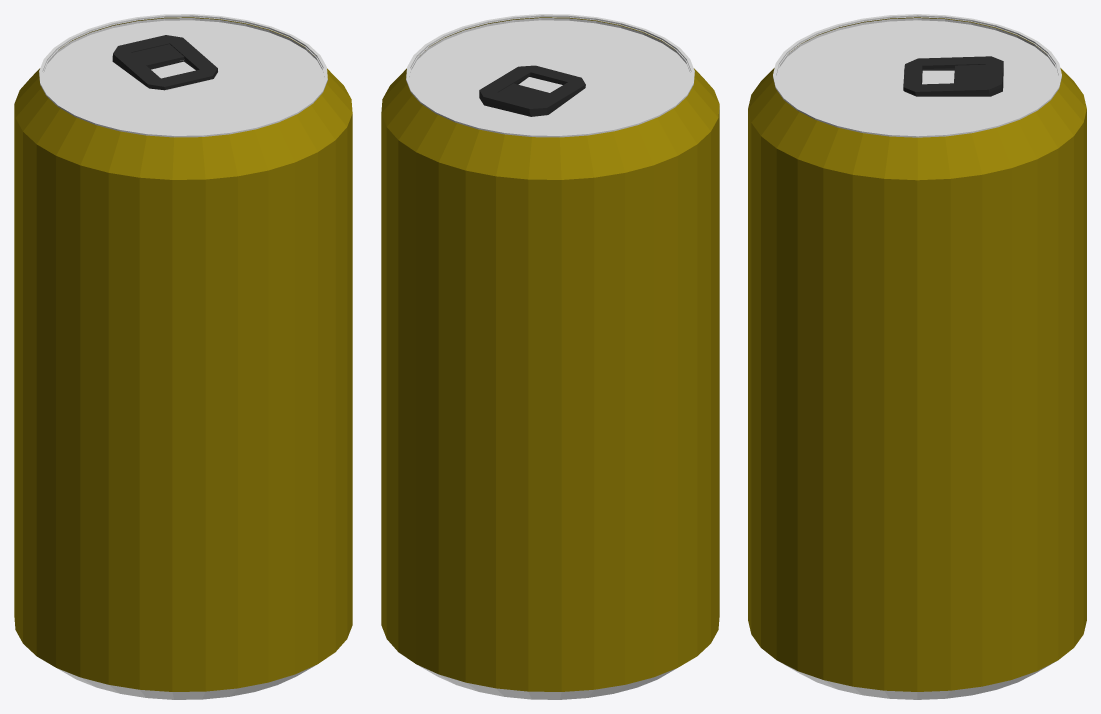
The model's file is can.glb.
3 views of the same model, side by side, from view 1: azimuth 30°, elevation 25°; view 2: azimuth 150°, elevation 25°; view 3: azimuth 270°, elevation 25° (orthographic).
Parts seen in each view (by area): view 1: Cylinder; view 2: Cylinder; view 3: Cylinder.
Boxes of the visible parts, <box> form: Cylinder: <box>14,14,352,699</box>; Cylinder: <box>381,14,719,699</box>; Cylinder: <box>748,14,1086,699</box>.
Size of the model in its own units: 0.2474 by 0.4574 by 0.2474.
